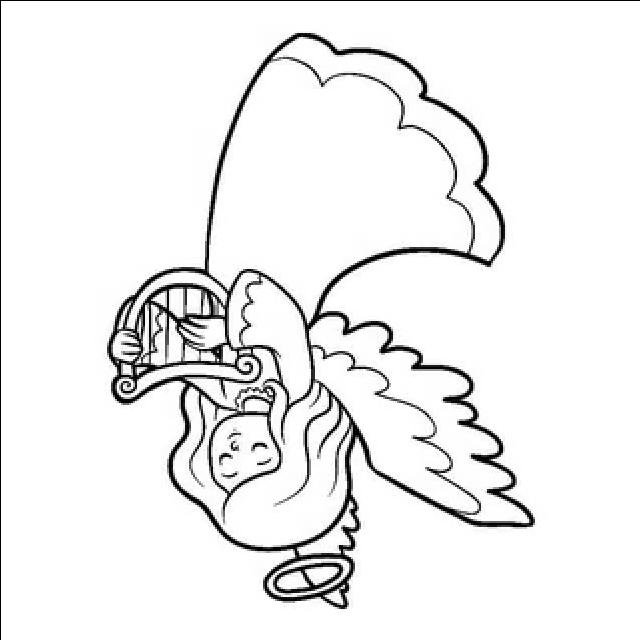angel: (70, 14, 546, 614)
